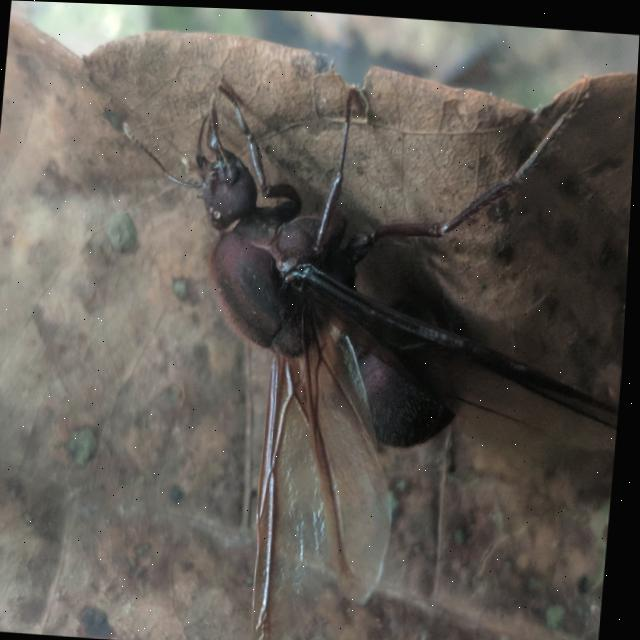Alive-Female-Alate: (84, 41, 638, 640)
